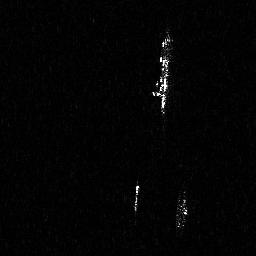ship: (153, 32, 174, 98)
